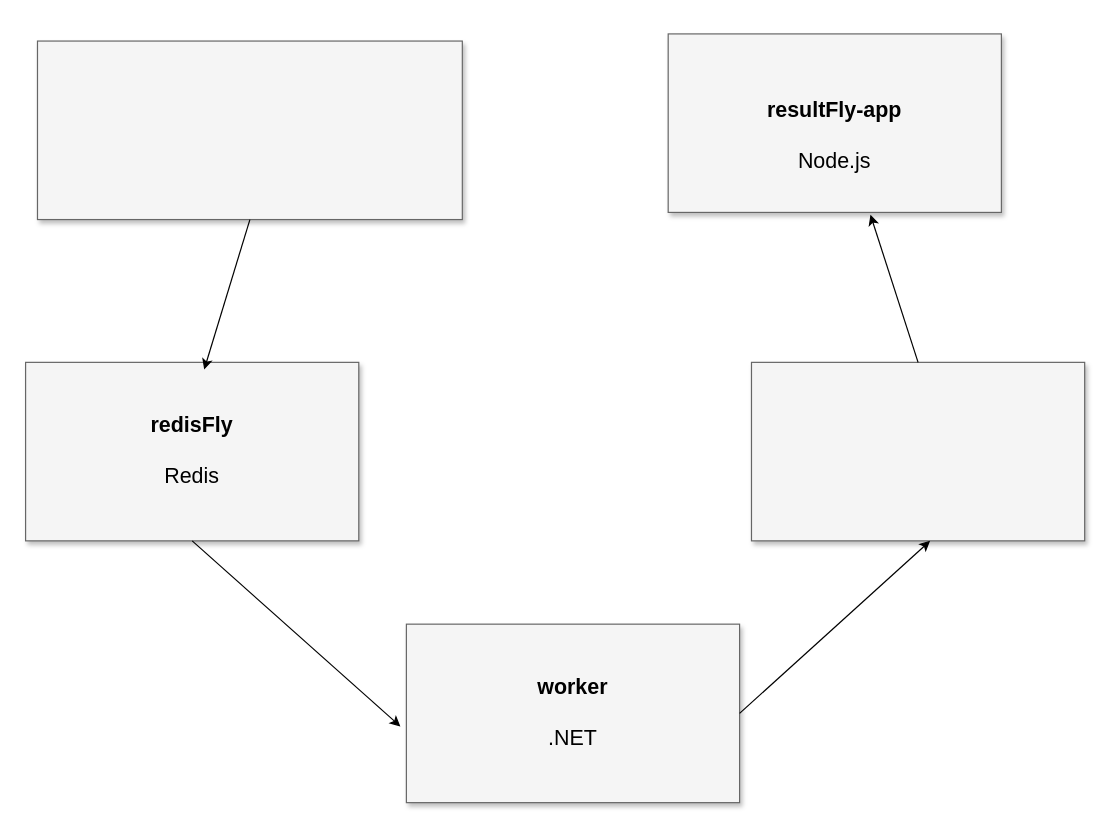
This 1113x832 diagram has some shape labels left out. The centre of each missing label's shape, as x and y in pixels:
"db PostgreSQL" goes at (919,452).
"planFly-app Python" goes at (250,131).
